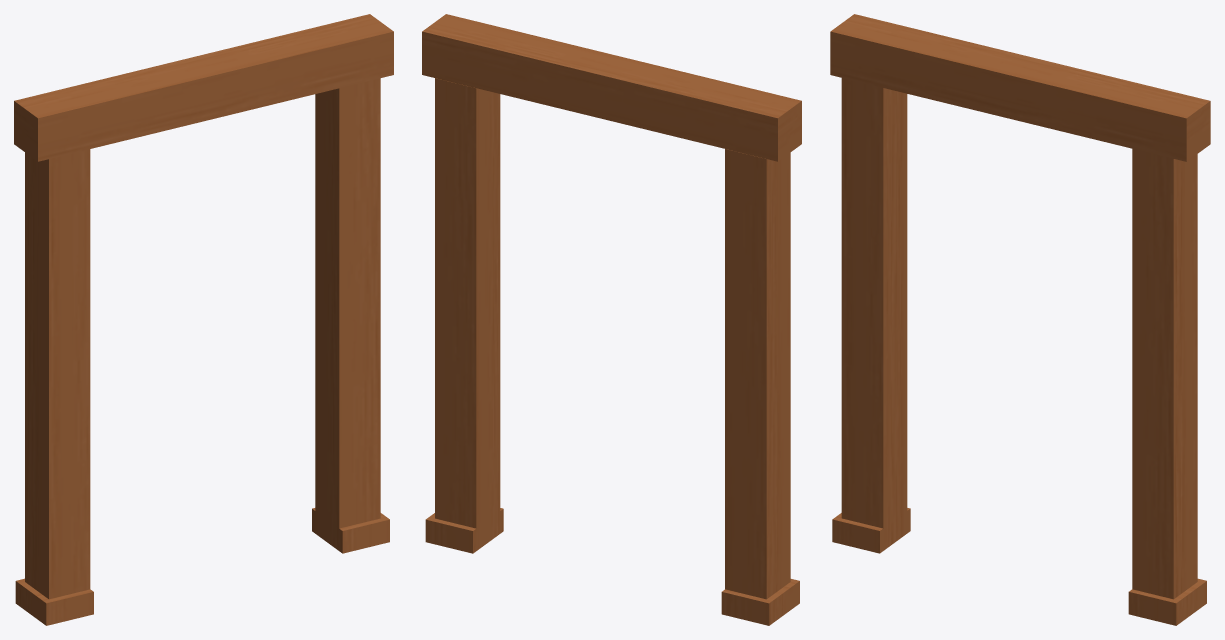
The model's file is Doorframe_A.FBX.
The picture shows the model from 3 angles, left to right: view 1: azimuth 30°, elevation 25°; view 2: azimuth 150°, elevation 25°; view 3: azimuth 330°, elevation 25°; orthographic projection.
Visible parts, largest first — view 1: DoorFrame_02; view 2: DoorFrame_02; view 3: DoorFrame_02.
Part boxes in pixels (bbox=[...]): DoorFrame_02: bbox=[14, 14, 393, 625]; DoorFrame_02: bbox=[422, 14, 801, 625]; DoorFrame_02: bbox=[830, 14, 1210, 625].
Bounding box in the file's own units: 300 × 408 × 44.91.
